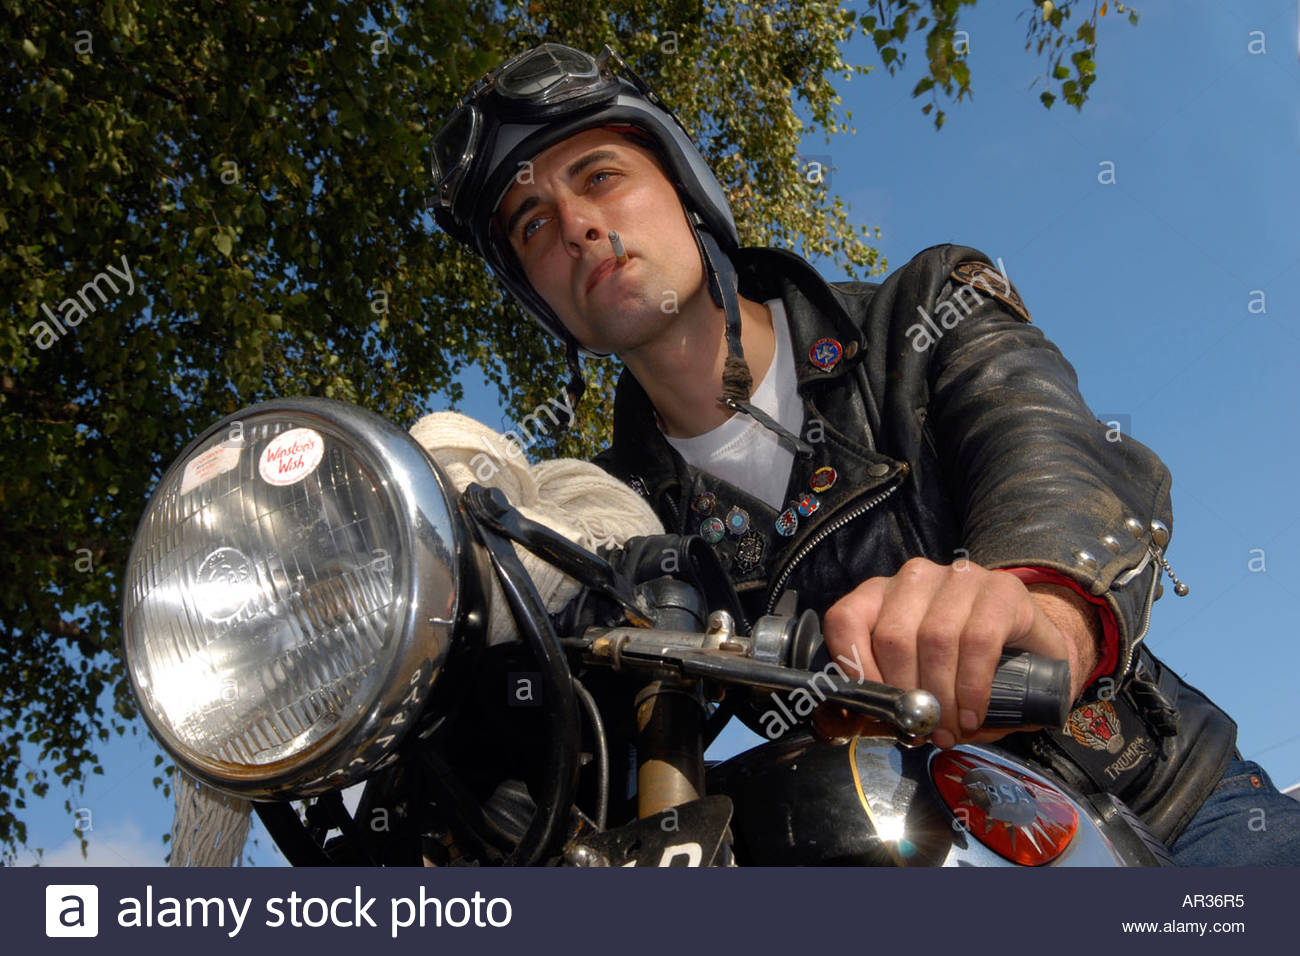with_helmet: (427, 52, 759, 344)
